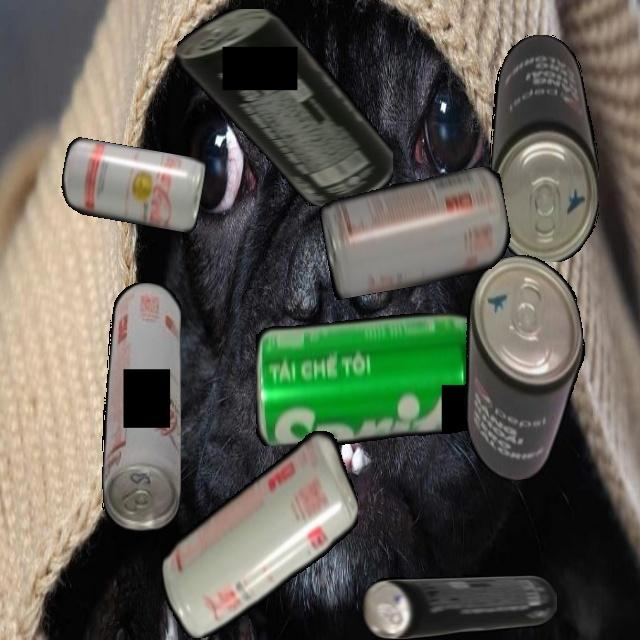debris: (176, 9, 393, 206), (161, 430, 358, 638), (440, 247, 606, 487), (255, 312, 480, 446), (317, 164, 516, 300), (488, 34, 599, 262), (101, 282, 181, 531), (57, 136, 207, 234), (362, 574, 557, 639)
